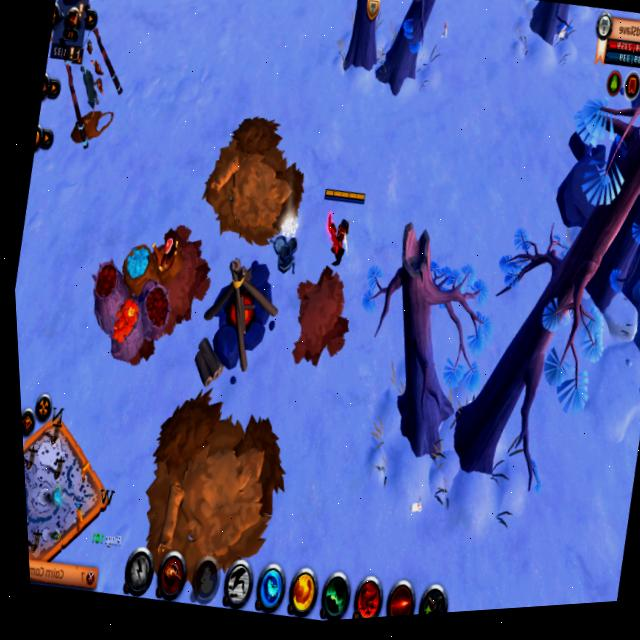hide: (46, 0, 65, 51)
red: (309, 183, 372, 278)
stone: (275, 209, 303, 249)
